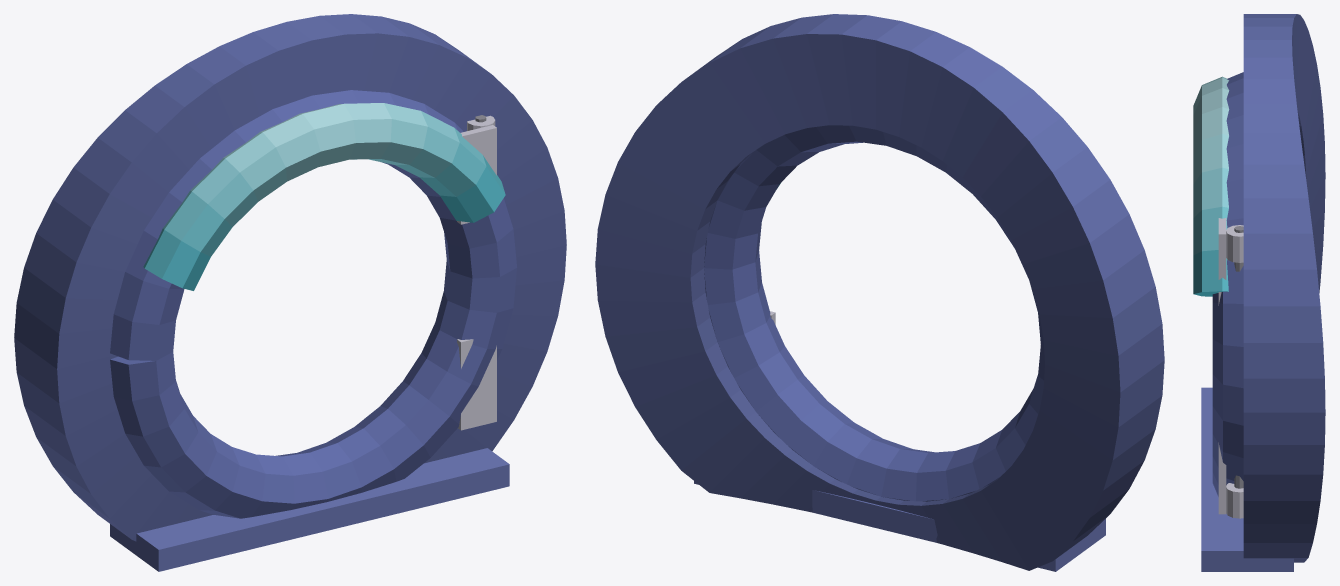
The model's file is goo_jar_door@space.fbx.
3 views of the same model, side by side, from view 1: azimuth 30°, elevation 25°; view 2: azimuth 150°, elevation 25°; view 3: azimuth 270°, elevation 25° (orthographic). The views are drawn at different scales.
Visible parts, largest first — view 1: goo_jar_door; view 2: goo_jar_door; view 3: goo_jar_door.
Part boxes in pixels (<box>): goo_jar_door: <box>14,14,566,571</box>; goo_jar_door: <box>595,14,1164,571</box>; goo_jar_door: <box>1193,14,1325,571</box>.
Bounding box in the file's own units: 14.52 × 13.06 × 3.42.
